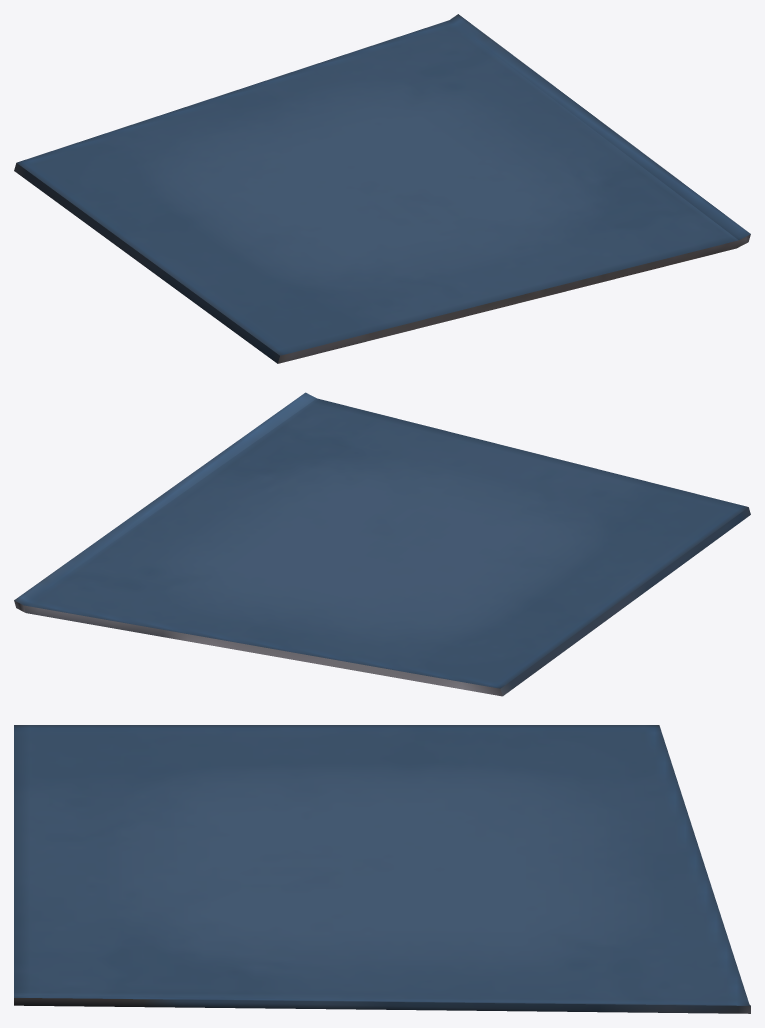
Rendered from FordExplorerRearWindow_WorldItem.fbx.
The picture shows the model from 3 angles, top to bottom: view 1: azimuth 30°, elevation 25°; view 2: azimuth 150°, elevation 25°; view 3: azimuth 270°, elevation 25°; orthographic projection. The views are drawn at different scales.
Parts seen in each view (by area): view 1: RearRightWindow_obj; view 2: RearRightWindow_obj; view 3: RearRightWindow_obj.
Part boxes in pixels (bbox=[...]): RearRightWindow_obj: bbox=[14, 14, 750, 363]; RearRightWindow_obj: bbox=[14, 392, 750, 696]; RearRightWindow_obj: bbox=[14, 725, 750, 1013].
Size of the model in its own units: 0.7455 by 0.0213 by 0.8074.
